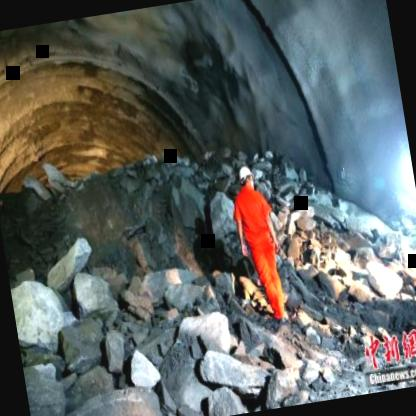helmet: (235, 160, 260, 196)
